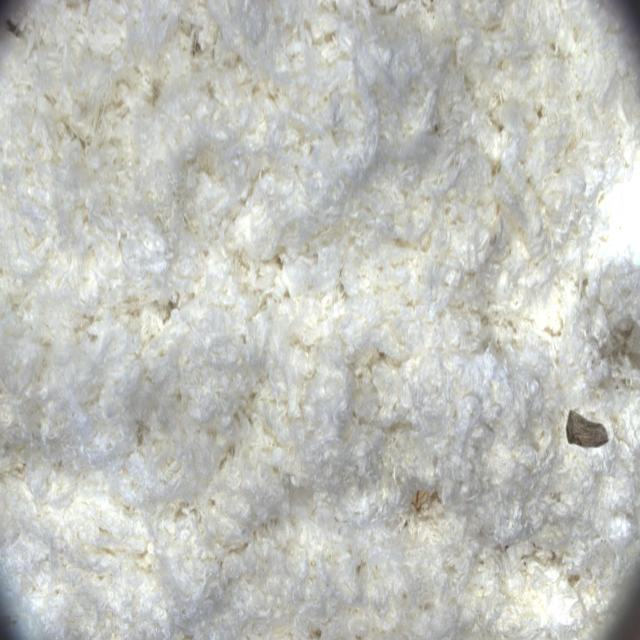dust: (537, 357, 634, 489)
